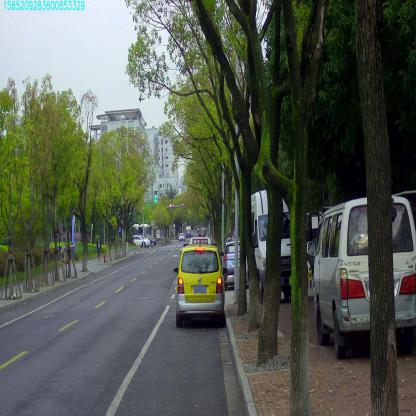traffic-light: (154, 190, 157, 203)
